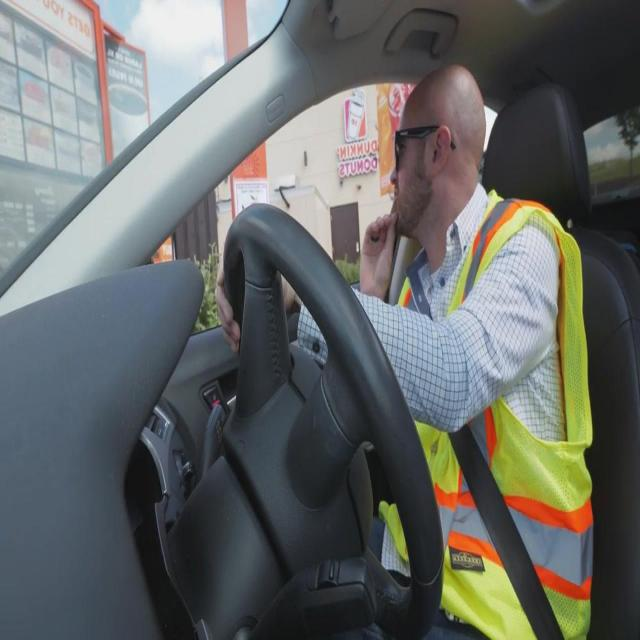Reflective-Jacket: (388, 205, 592, 633)
